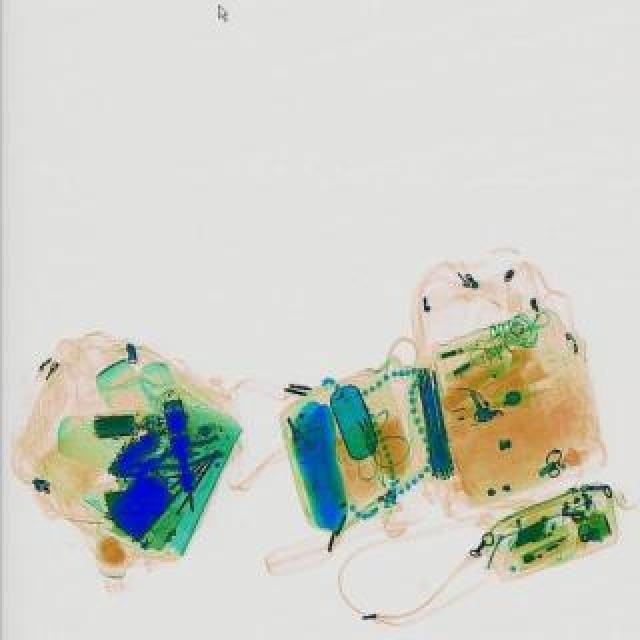wrench: (118, 432, 226, 484)
